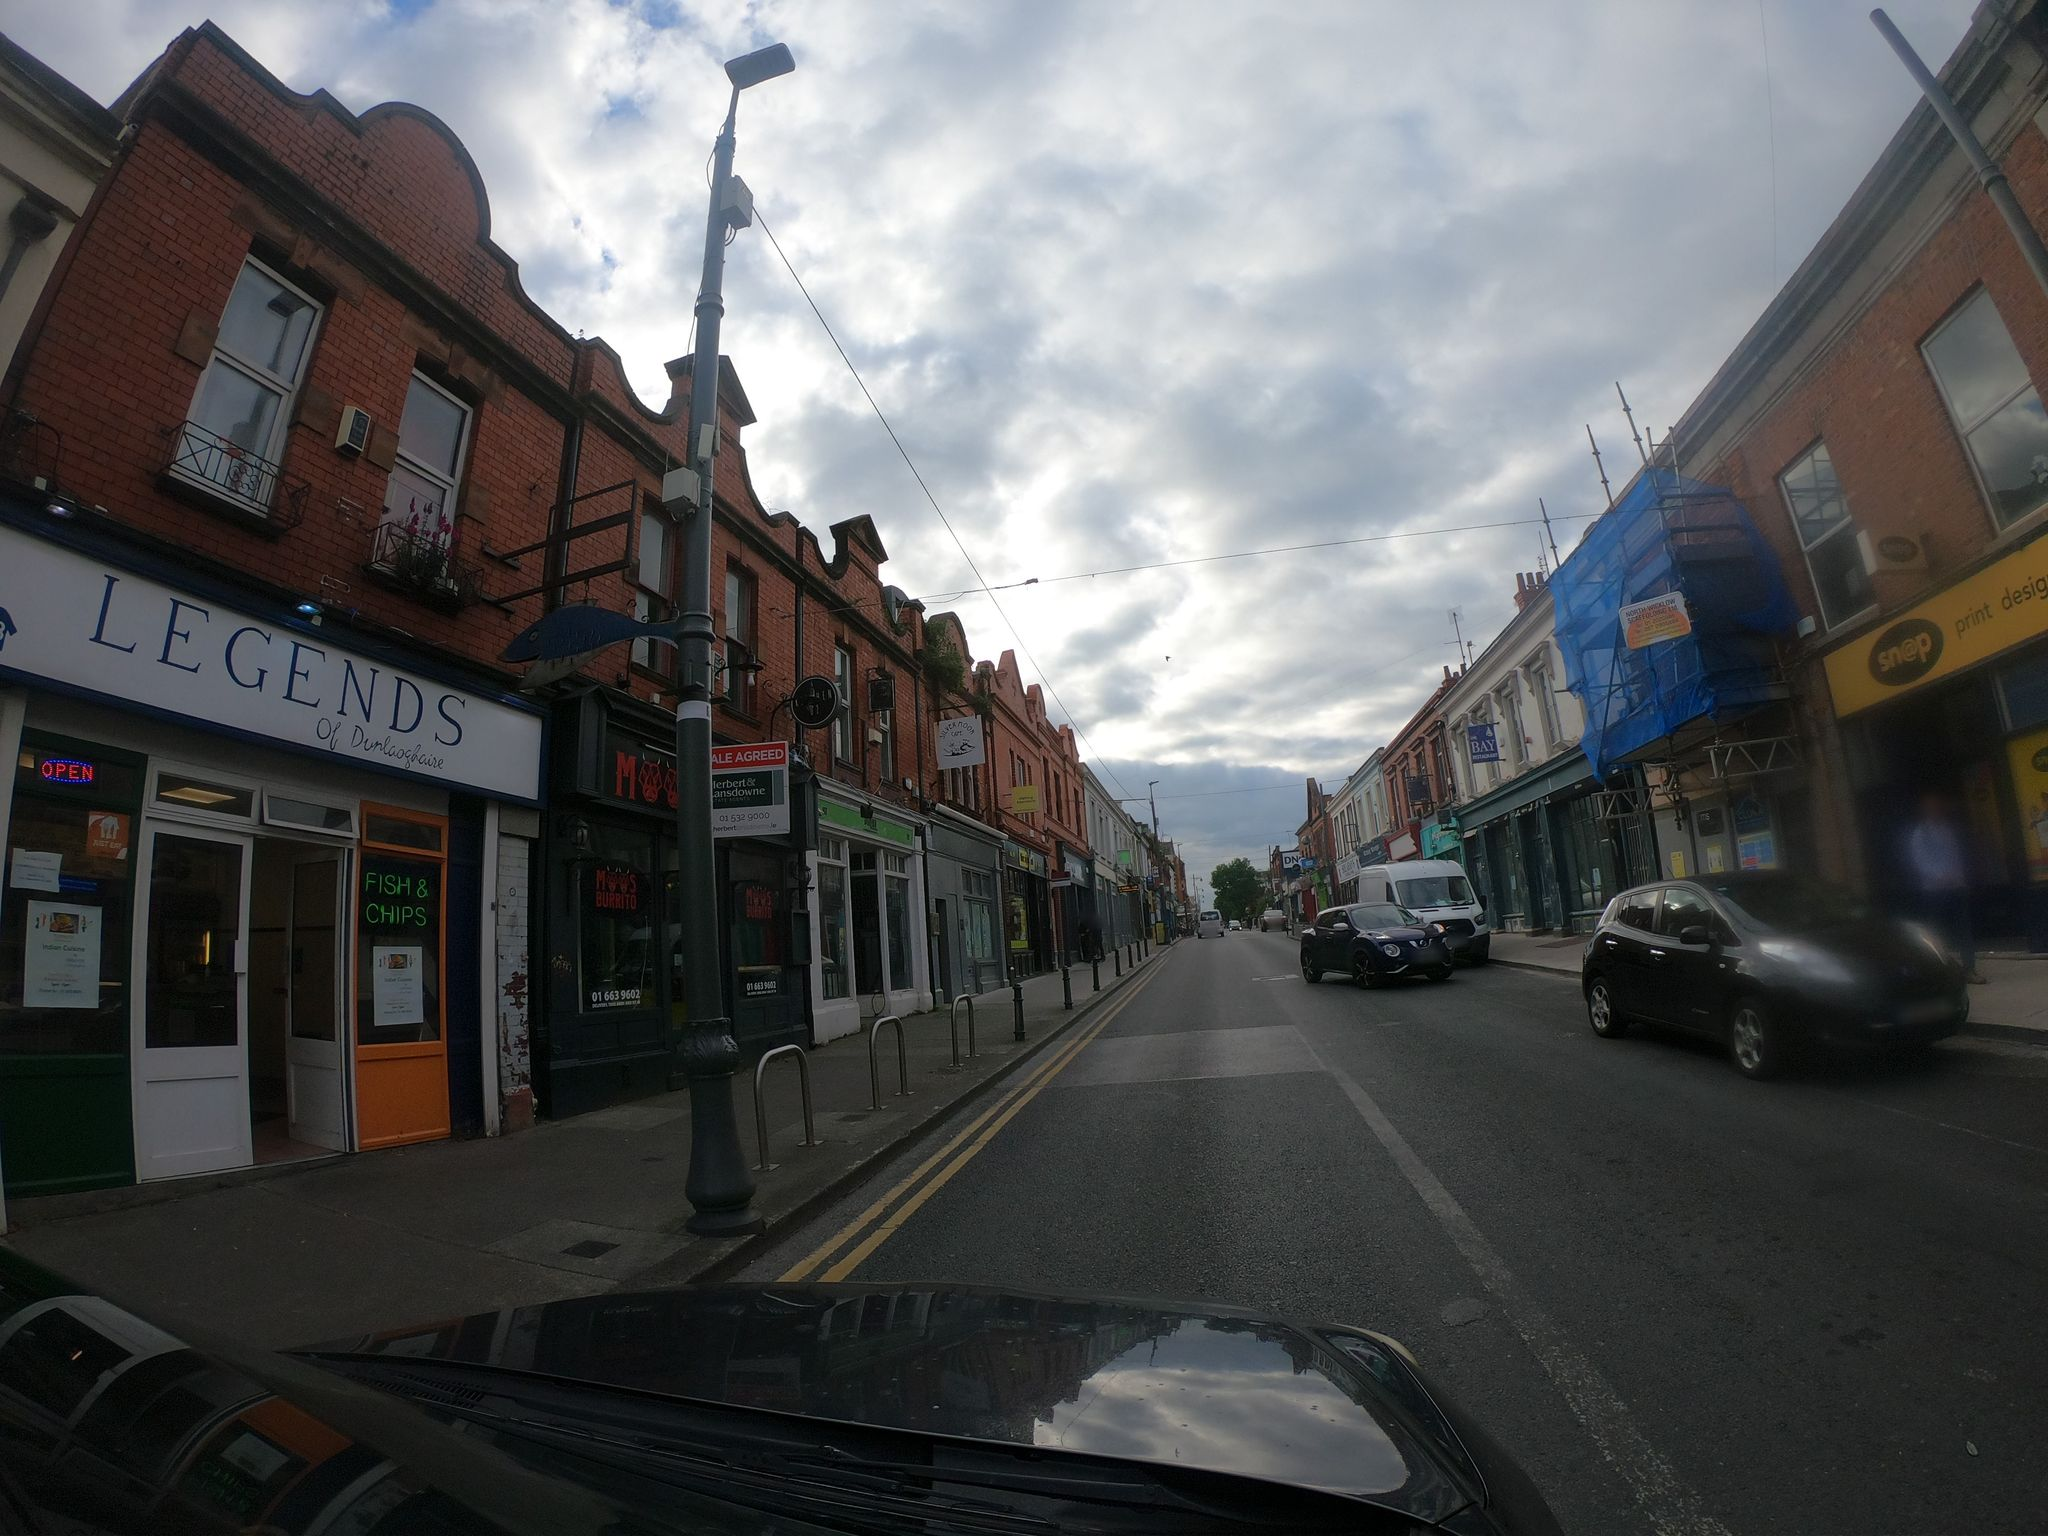property sign: (669, 724, 822, 844)
